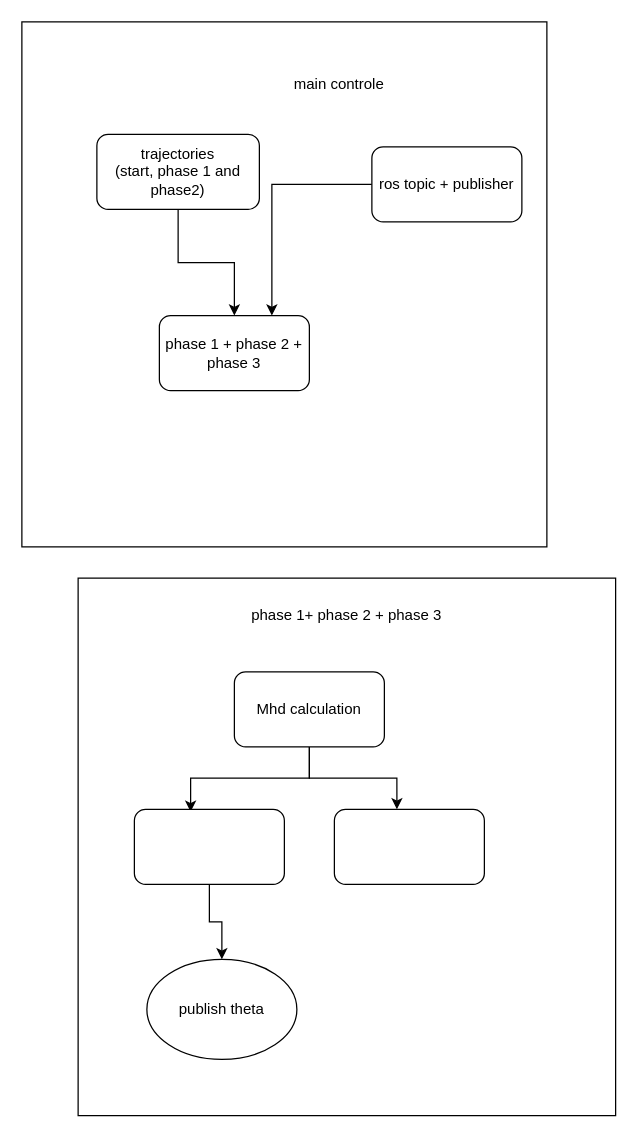
The diagram is 638 pixels wide and 1138 high, and some of its shapes have lost their labels. Here are the shapes that lost their labels. From the top down, the centre of each, then its label:
(x=208, y=846): Proportional Controller
(x=408, y=846): LQR
